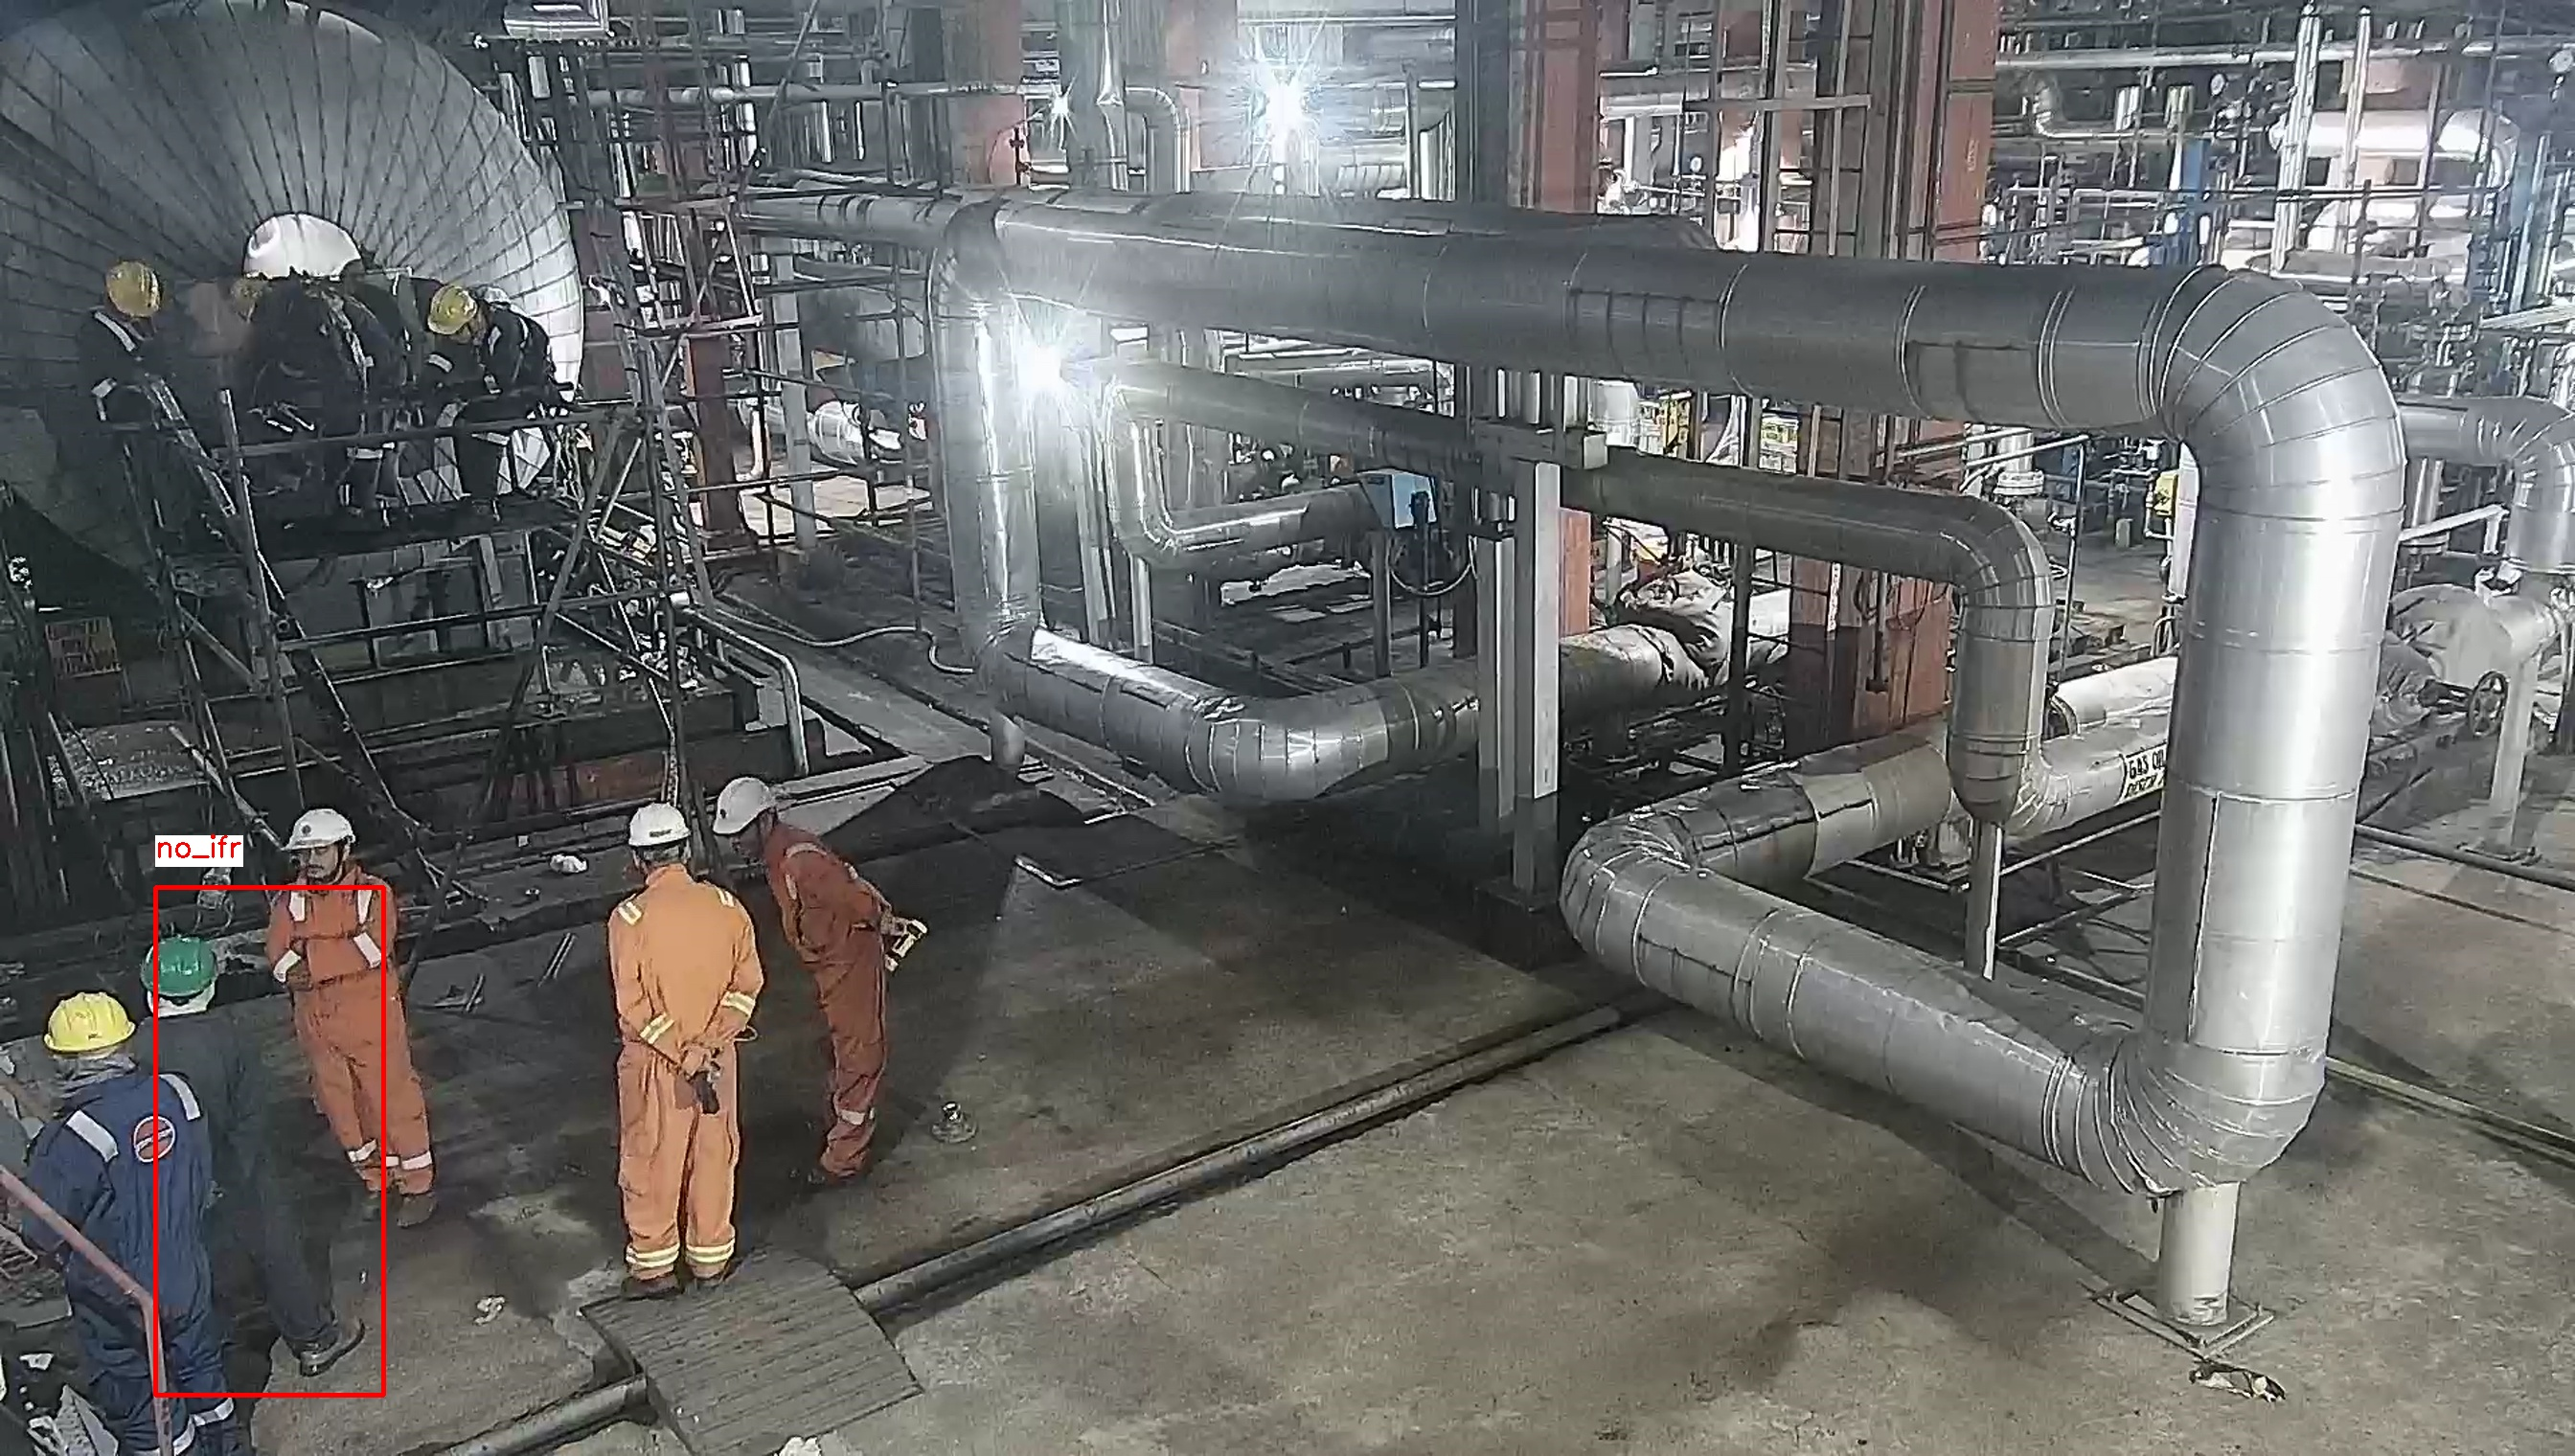Boots: (292, 1313, 366, 1378), (612, 1274, 686, 1313), (393, 1191, 440, 1235)
Helmets: (129, 936, 239, 1003), (39, 987, 145, 1051), (97, 253, 173, 320), (706, 778, 785, 837), (279, 805, 364, 858), (623, 794, 695, 856), (424, 283, 485, 336)
IFR_Suit: (19, 1069, 241, 1442), (260, 867, 437, 1194), (608, 869, 746, 1263), (764, 842, 893, 1155)
